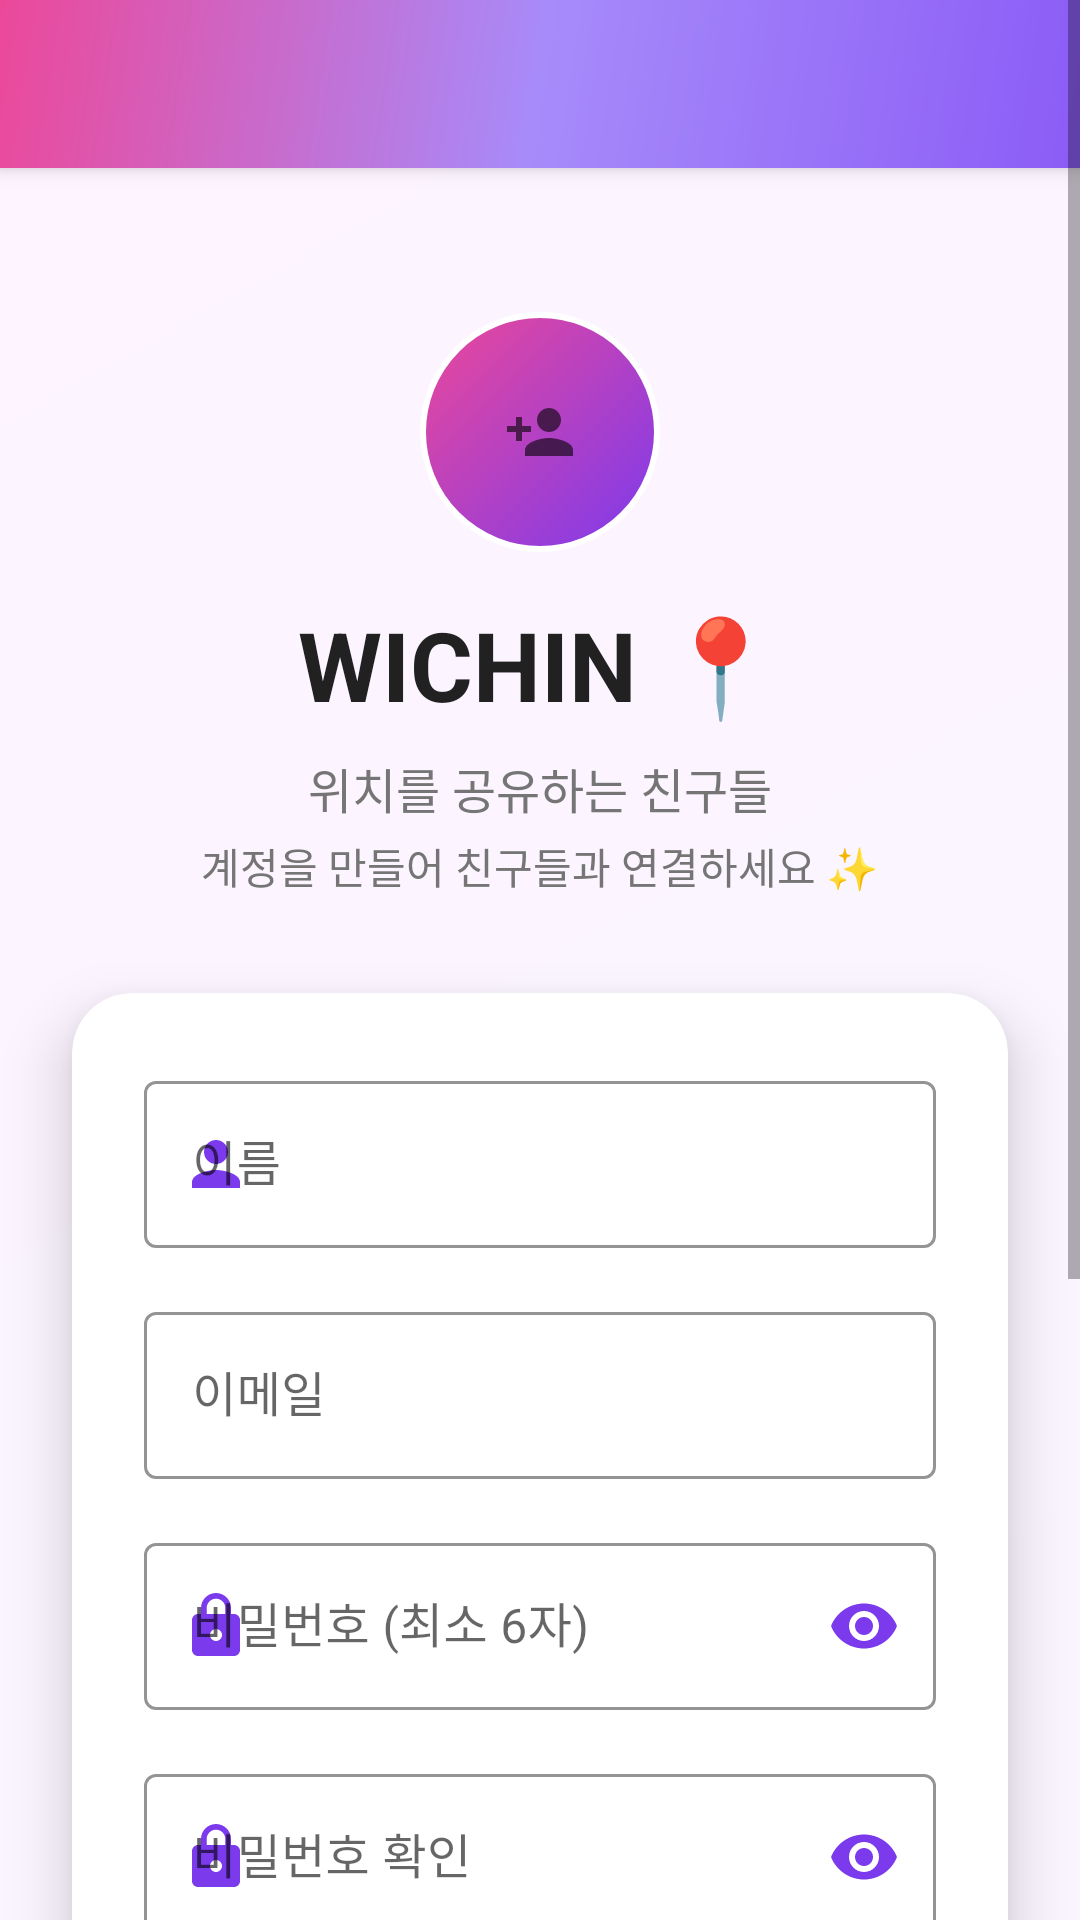

Named icons in this screenshot (1080 × 1920) and their centers, point (x, y):
person add: point (540, 432)
